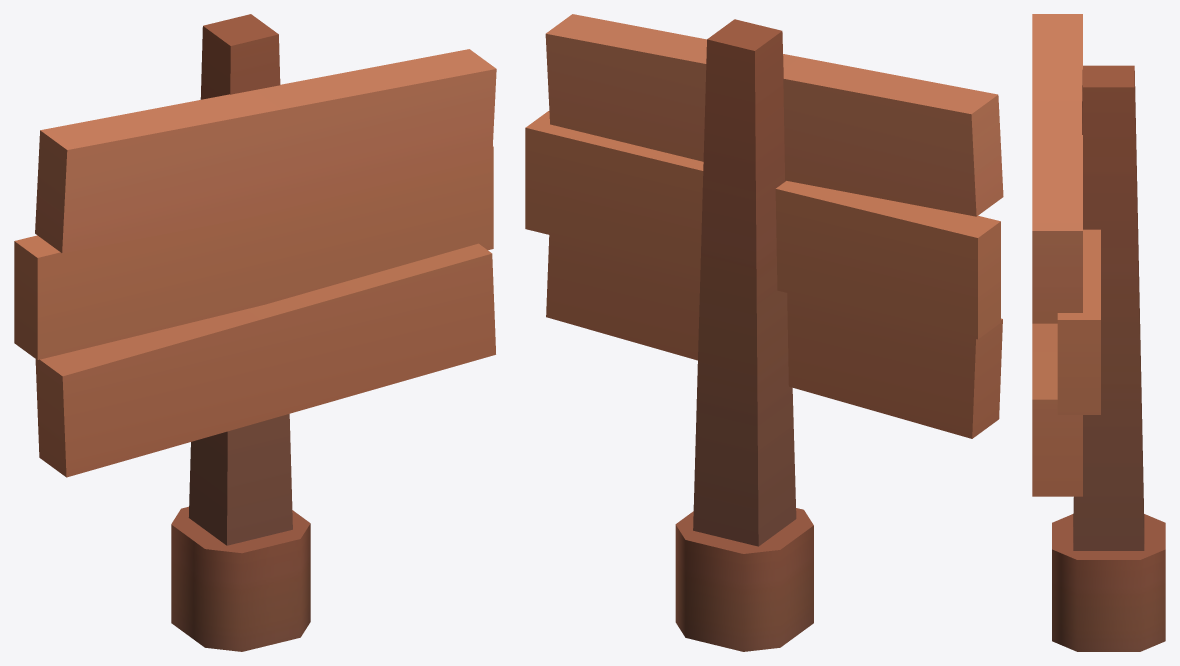
The model's file is kenney-platformer-sign.glb.
3 views of the same model, side by side, from view 1: azimuth 30°, elevation 25°; view 2: azimuth 150°, elevation 25°; view 3: azimuth 270°, elevation 25° (orthographic). The views are drawn at different scales.
Visible parts, largest first — view 1: sign; view 2: sign; view 3: sign.
Part boxes in pixels (x1,y1,x2,y2): sign: (14,14,496,651); sign: (525,14,1003,651); sign: (1032,14,1165,651).
Size of the model in its own units: 0.4835 by 0.6 by 0.1314.
1 material, 1 textured.
